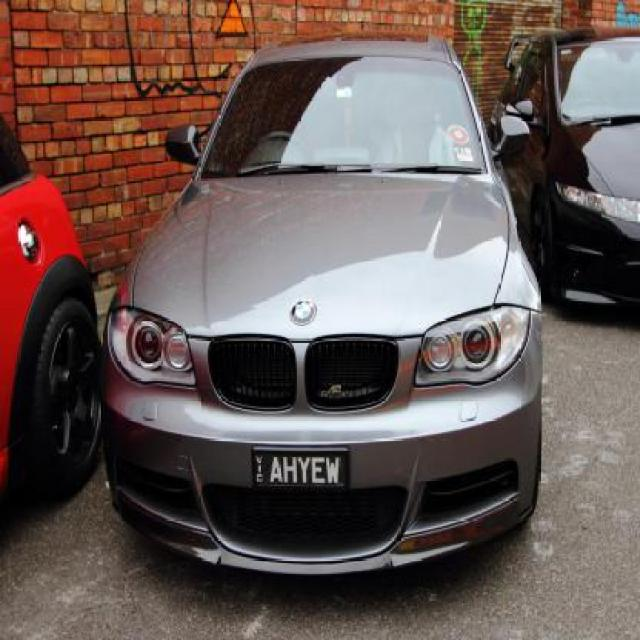License-Plates: (248, 442, 356, 493)
